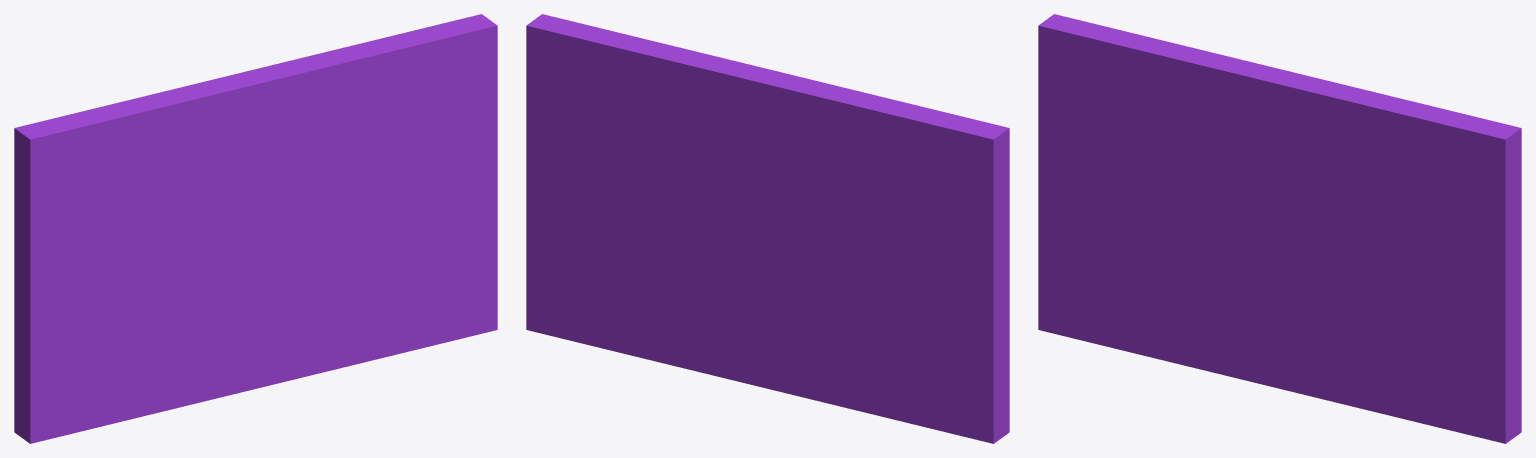
The model's file is Barrier_31_chunks.fbx.
3 renders of one model, left to right at view 1: azimuth 30°, elevation 25°; view 2: azimuth 150°, elevation 25°; view 3: azimuth 330°, elevation 25°, orthographic.
Visible parts, largest first — view 1: Barrier_31_1, Barrier_31_0, Barrier_31_6, Barrier_31_4, Barrier_31_2, Barrier_31_5, Barrier_31_3; view 2: Barrier_31_2, Barrier_31_0, Barrier_31_6, Barrier_31_4, Barrier_31_1, Barrier_31_3, Barrier_31_5; view 3: Barrier_31_1, Barrier_31_0, Barrier_31_6, Barrier_31_4, Barrier_31_2, Barrier_31_5, Barrier_31_3.
Boxes of the visible parts, box(x1,y1,x2,y2) form: Barrier_31_1: box(254, 14, 497, 314); Barrier_31_0: box(14, 232, 322, 443); Barrier_31_6: box(14, 99, 212, 239); Barrier_31_4: box(202, 36, 391, 232); Barrier_31_2: box(302, 276, 497, 372); Barrier_31_5: box(124, 185, 244, 236); Barrier_31_3: box(126, 67, 262, 129); Barrier_31_2: box(526, 102, 769, 377); Barrier_31_0: box(721, 229, 1009, 443); Barrier_31_6: box(845, 88, 1009, 244); Barrier_31_4: box(616, 42, 807, 225); Barrier_31_1: box(526, 14, 674, 130); Barrier_31_3: box(745, 76, 881, 174); Barrier_31_5: box(760, 172, 947, 243); Barrier_31_1: box(1262, 106, 1521, 389); Barrier_31_0: box(1038, 126, 1330, 400); Barrier_31_6: box(1038, 14, 1220, 168); Barrier_31_4: box(1210, 74, 1431, 227); Barrier_31_2: box(1310, 206, 1521, 443); Barrier_31_5: box(1132, 154, 1252, 223); Barrier_31_3: box(1166, 41, 1301, 104).
Size of the model in its own units: 462 by 288 by 27.2.
